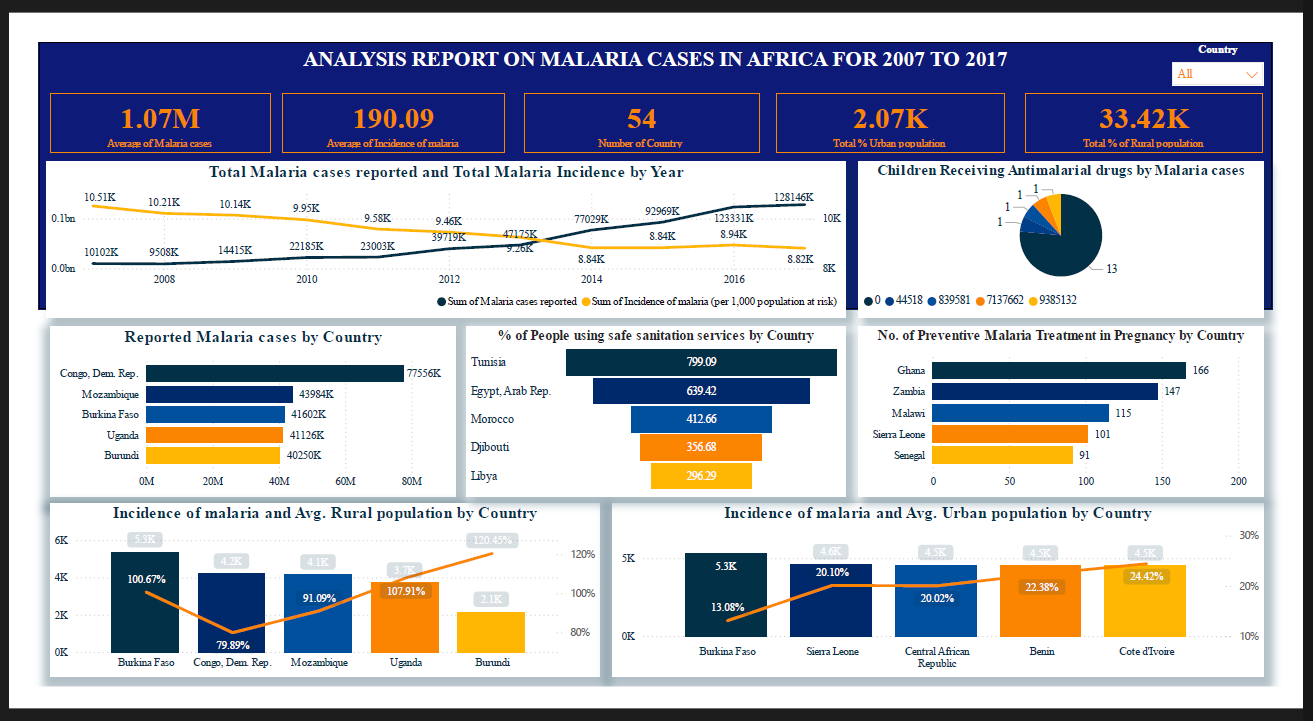

The dashboard page shown, as its layout file describes it:
{"tool":"powerbi","page":{"name":"DASHBOARD","canvas":[1420,740],"ordinal":0},"visuals":[{"type":"textbox","box":[9.8,8.7,1398.9,303.3],"z":0},{"type":"lineChart","title":"Total Malaria cases reported and Total Malaria Incidence by Year","fields":{"Y":["Sum(DatasetAfricaMalaria.Malaria cases reported)"],"Category":["DatasetAfricaMalaria.Year"],"Y2":["Sum(DatasetAfricaMalaria.Incidence of malaria (per 1,000 population at risk))"]},"box":[19.4,145.2,905.4,176.3],"z":1000},{"type":"clusteredBarChart","title":"Reported Malaria cases by Country","fields":{"Category":["DatasetAfricaMalaria.Country Name"],"Y":["Sum(DatasetAfricaMalaria.Malaria cases reported)"]},"box":[22.8,331.5,459.8,192.4],"z":2000},{"type":"lineClusteredColumnComboChart","title":"Incidence of malaria and Avg. Rural population by Country ","fields":{"Category":["DatasetAfricaMalaria.Country Name"],"Y2":["Sum(DatasetAfricaMalaria.Rural population (% of total population))"],"Y":["Sum(DatasetAfricaMalaria.Incidence of malaria (per 1,000 population at risk))"]},"box":[22.8,531.5,622.8,197.8],"z":3000},{"type":"lineStackedColumnComboChart","title":"Incidence of malaria and Avg. Urban population by Country","fields":{"Category":["DatasetAfricaMalaria.Country Name"],"Y2":["Sum(DatasetAfricaMalaria.Urban population (% of total population))"],"Y":["Sum(DatasetAfricaMalaria.Incidence of malaria (per 1,000 population at risk))"]},"box":[660.9,531.5,738,197.8],"z":4000},{"type":"funnel","title":"% of People using safe sanitation services  by Country","fields":{"Category":["DatasetAfricaMalaria.Country Name"],"Y":["Sum(DatasetAfricaMalaria.People using safely managed sanitation services (% of population))"]},"box":[494.6,331.5,430.4,192.4],"z":5000},{"type":"pieChart","title":" Children Receiving Antimalarial drugs by Malaria cases","fields":{"Category":["DatasetAfricaMalaria.Malaria cases reported"],"Y":["Count(DatasetAfricaMalaria.Children with fever receiving antimalarial drugs (% of children under age 5 with fever))"]},"box":[939.8,145.2,459.1,176.3],"z":6000},{"type":"clusteredBarChart","title":"No. of Preventive Malaria Treatment in Pregnancy by Country","fields":{"Category":["DatasetAfricaMalaria.Country Name"],"Y":["Sum(DatasetAfricaMalaria.Intermittent preventive treatment (IPT) of malaria in pregnancy (% of pregnant women))"]},"box":[940.2,331.5,458.7,192.4],"z":7000},{"type":"card","fields":{"Values":["Avg(DatasetAfricaMalaria.Malaria cases reported)"]},"box":[22.6,66.7,250.5,68.8],"z":8000},{"type":"card","fields":{"Values":["Avg(DatasetAfricaMalaria.Incidence of malaria (per 1,000 population at risk))"]},"box":[286,66.7,252.7,68.8],"z":9000},{"type":"card","fields":{"Values":["Count(DatasetAfricaMalaria.Country Name)"]},"box":[560.2,66.7,267.7,68.8],"z":10000},{"type":"card","fields":{"Values":["Sum(DatasetAfricaMalaria.Urban population growth (annual %))"]},"box":[846.2,66.7,260.2,68.8],"z":11000},{"type":"card","fields":{"Values":["Sum(DatasetAfricaMalaria.Rural population (% of total population))"]},"box":[1129,66.7,269.9,68.8],"z":12000},{"type":"slicer","title":"Country","fields":{"Values":["DatasetAfricaMalaria.Country Name"]},"box":[1286,8.6,122.6,61.3],"z":13000}]}

Visuals, with their boxes on the page's 1420x740 design canvas (x1, y1, x2, y2). These are canvas units, not pixel positions in the 1313x721 screenshot, which may show the page scaled, cropped or inside an application window:
textbox: bbox(10, 9, 1409, 312)
"Total Malaria cases reported and Total Malaria Incidence by Year" lineChart: bbox(19, 145, 925, 322)
"Reported Malaria cases by Country" clusteredBarChart: bbox(23, 332, 483, 524)
"Incidence of malaria and Avg. Rural population by Country " lineClusteredColumnComboChart: bbox(23, 532, 646, 729)
"Incidence of malaria and Avg. Urban population by Country" lineStackedColumnComboChart: bbox(661, 532, 1399, 729)
"% of People using safe sanitation services  by Country" funnel: bbox(495, 332, 925, 524)
" Children Receiving Antimalarial drugs by Malaria cases" pieChart: bbox(940, 145, 1399, 322)
"No. of Preventive Malaria Treatment in Pregnancy by Country" clusteredBarChart: bbox(940, 332, 1399, 524)
card - Avg(DatasetAfricaMalaria.Malaria cases reported): bbox(23, 67, 273, 136)
card - Avg(DatasetAfricaMalaria.Incidence of malaria (per 1,000 population at risk)): bbox(286, 67, 539, 136)
card - Count(DatasetAfricaMalaria.Country Name): bbox(560, 67, 828, 136)
card - Sum(DatasetAfricaMalaria.Urban population growth (annual %)): bbox(846, 67, 1106, 136)
card - Sum(DatasetAfricaMalaria.Rural population (% of total population)): bbox(1129, 67, 1399, 136)
"Country" slicer: bbox(1286, 9, 1409, 70)
